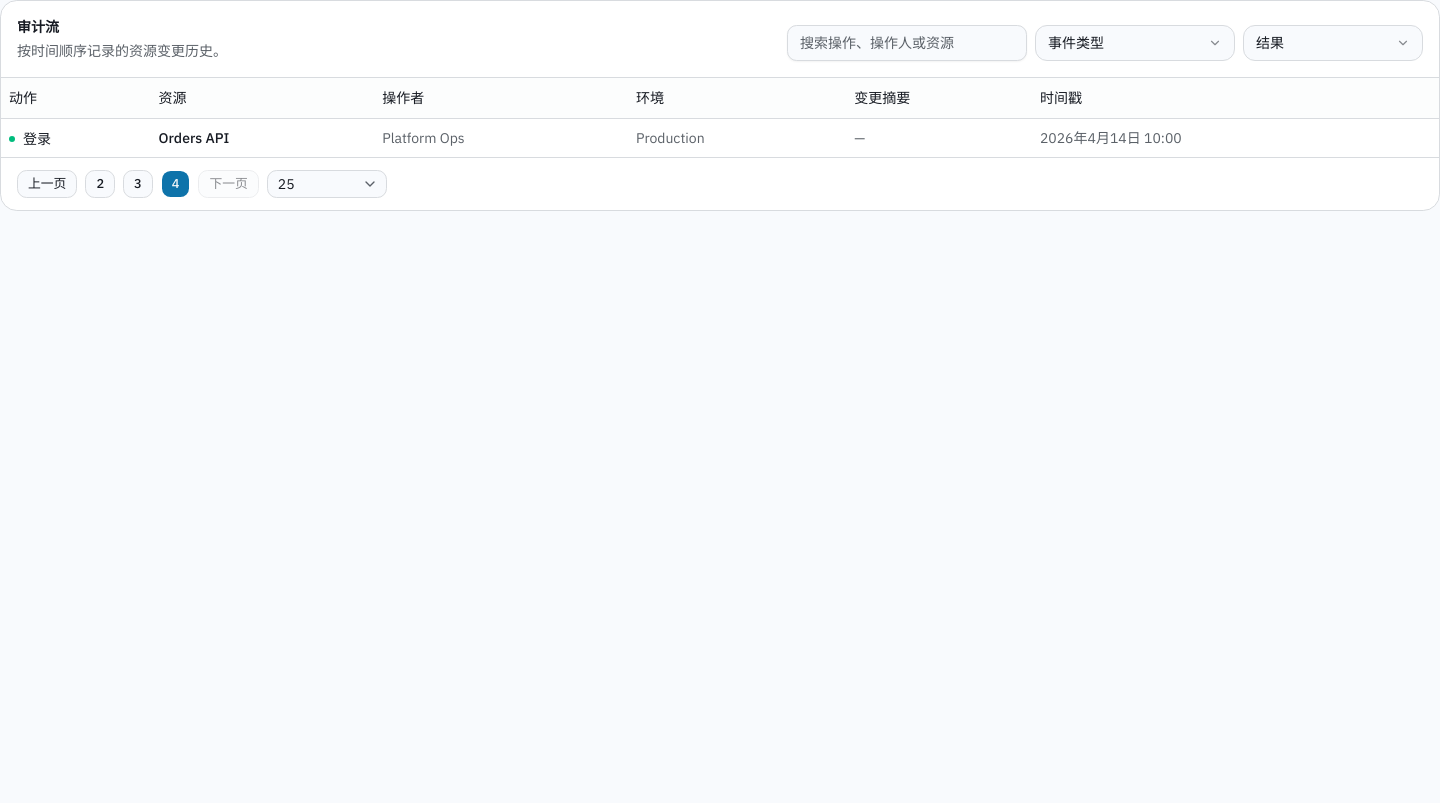
Test: AuditTable › localizes auth login rows and filter options in zh-CN instead of Title Case English
The width and height of the screenshot is (1440, 803).
Expected: the text "登录" is shown, top-left (9, 128), bottom-right (51, 148)
Click the button "事件类型" at (1135, 43), box top-left (1035, 25), bottom-right (1235, 61)
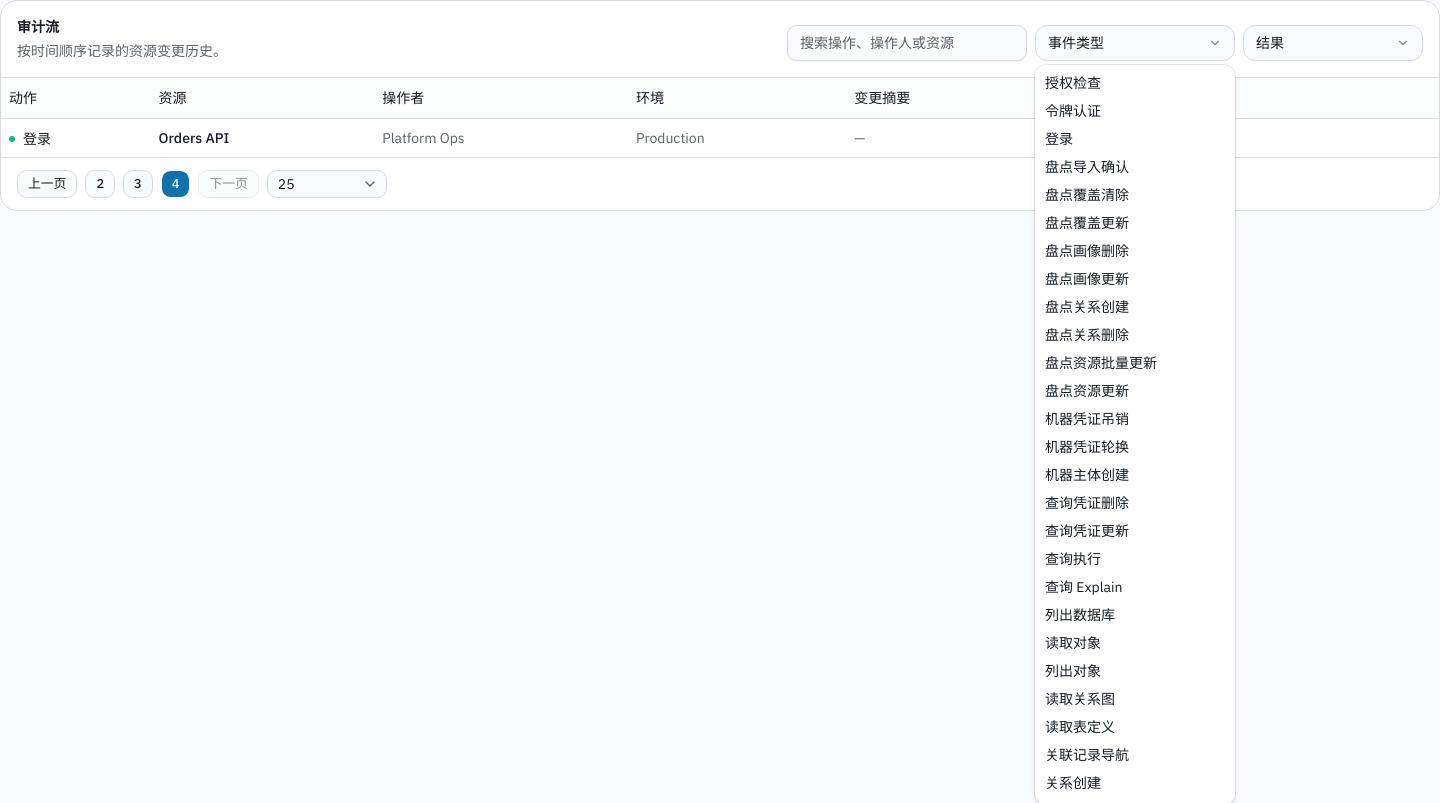
Expected: the menu item "登录" is shown, top-left (1045, 130), bottom-right (1073, 148)
Press Escape
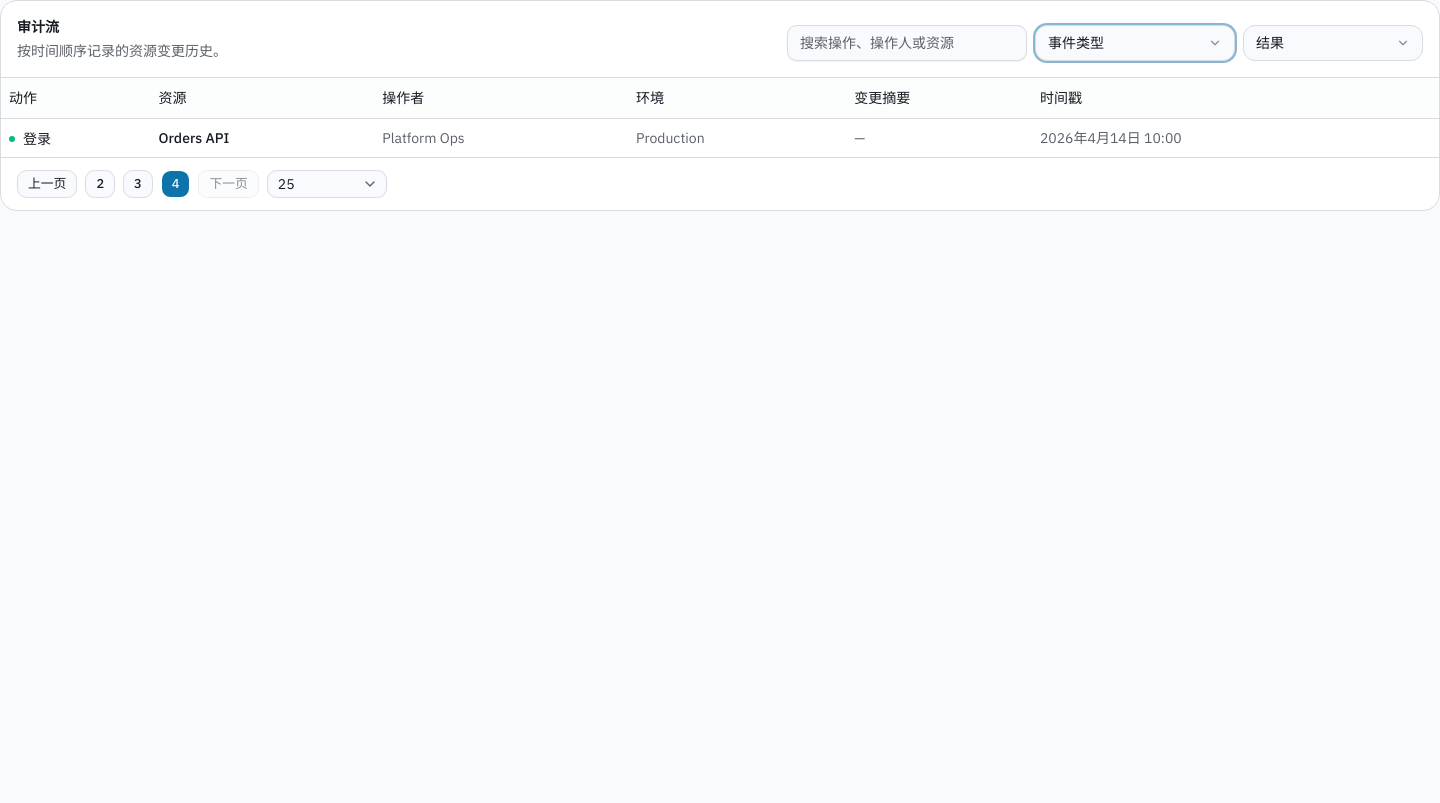
Click the button "结果" at (1333, 43), box top-left (1243, 25), bottom-right (1423, 61)
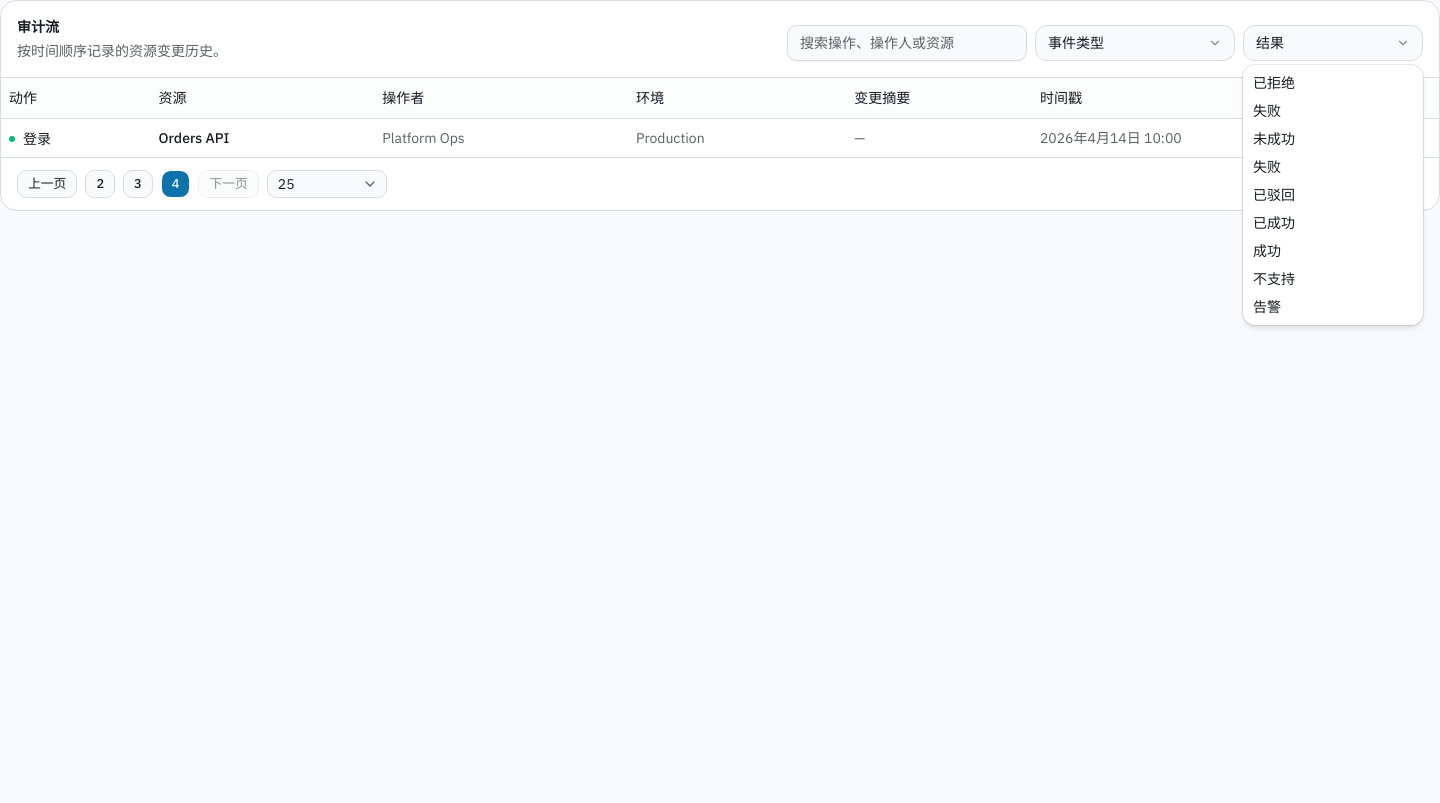
Expected: the menu item "已成功" is shown, top-left (1253, 214), bottom-right (1295, 232)
